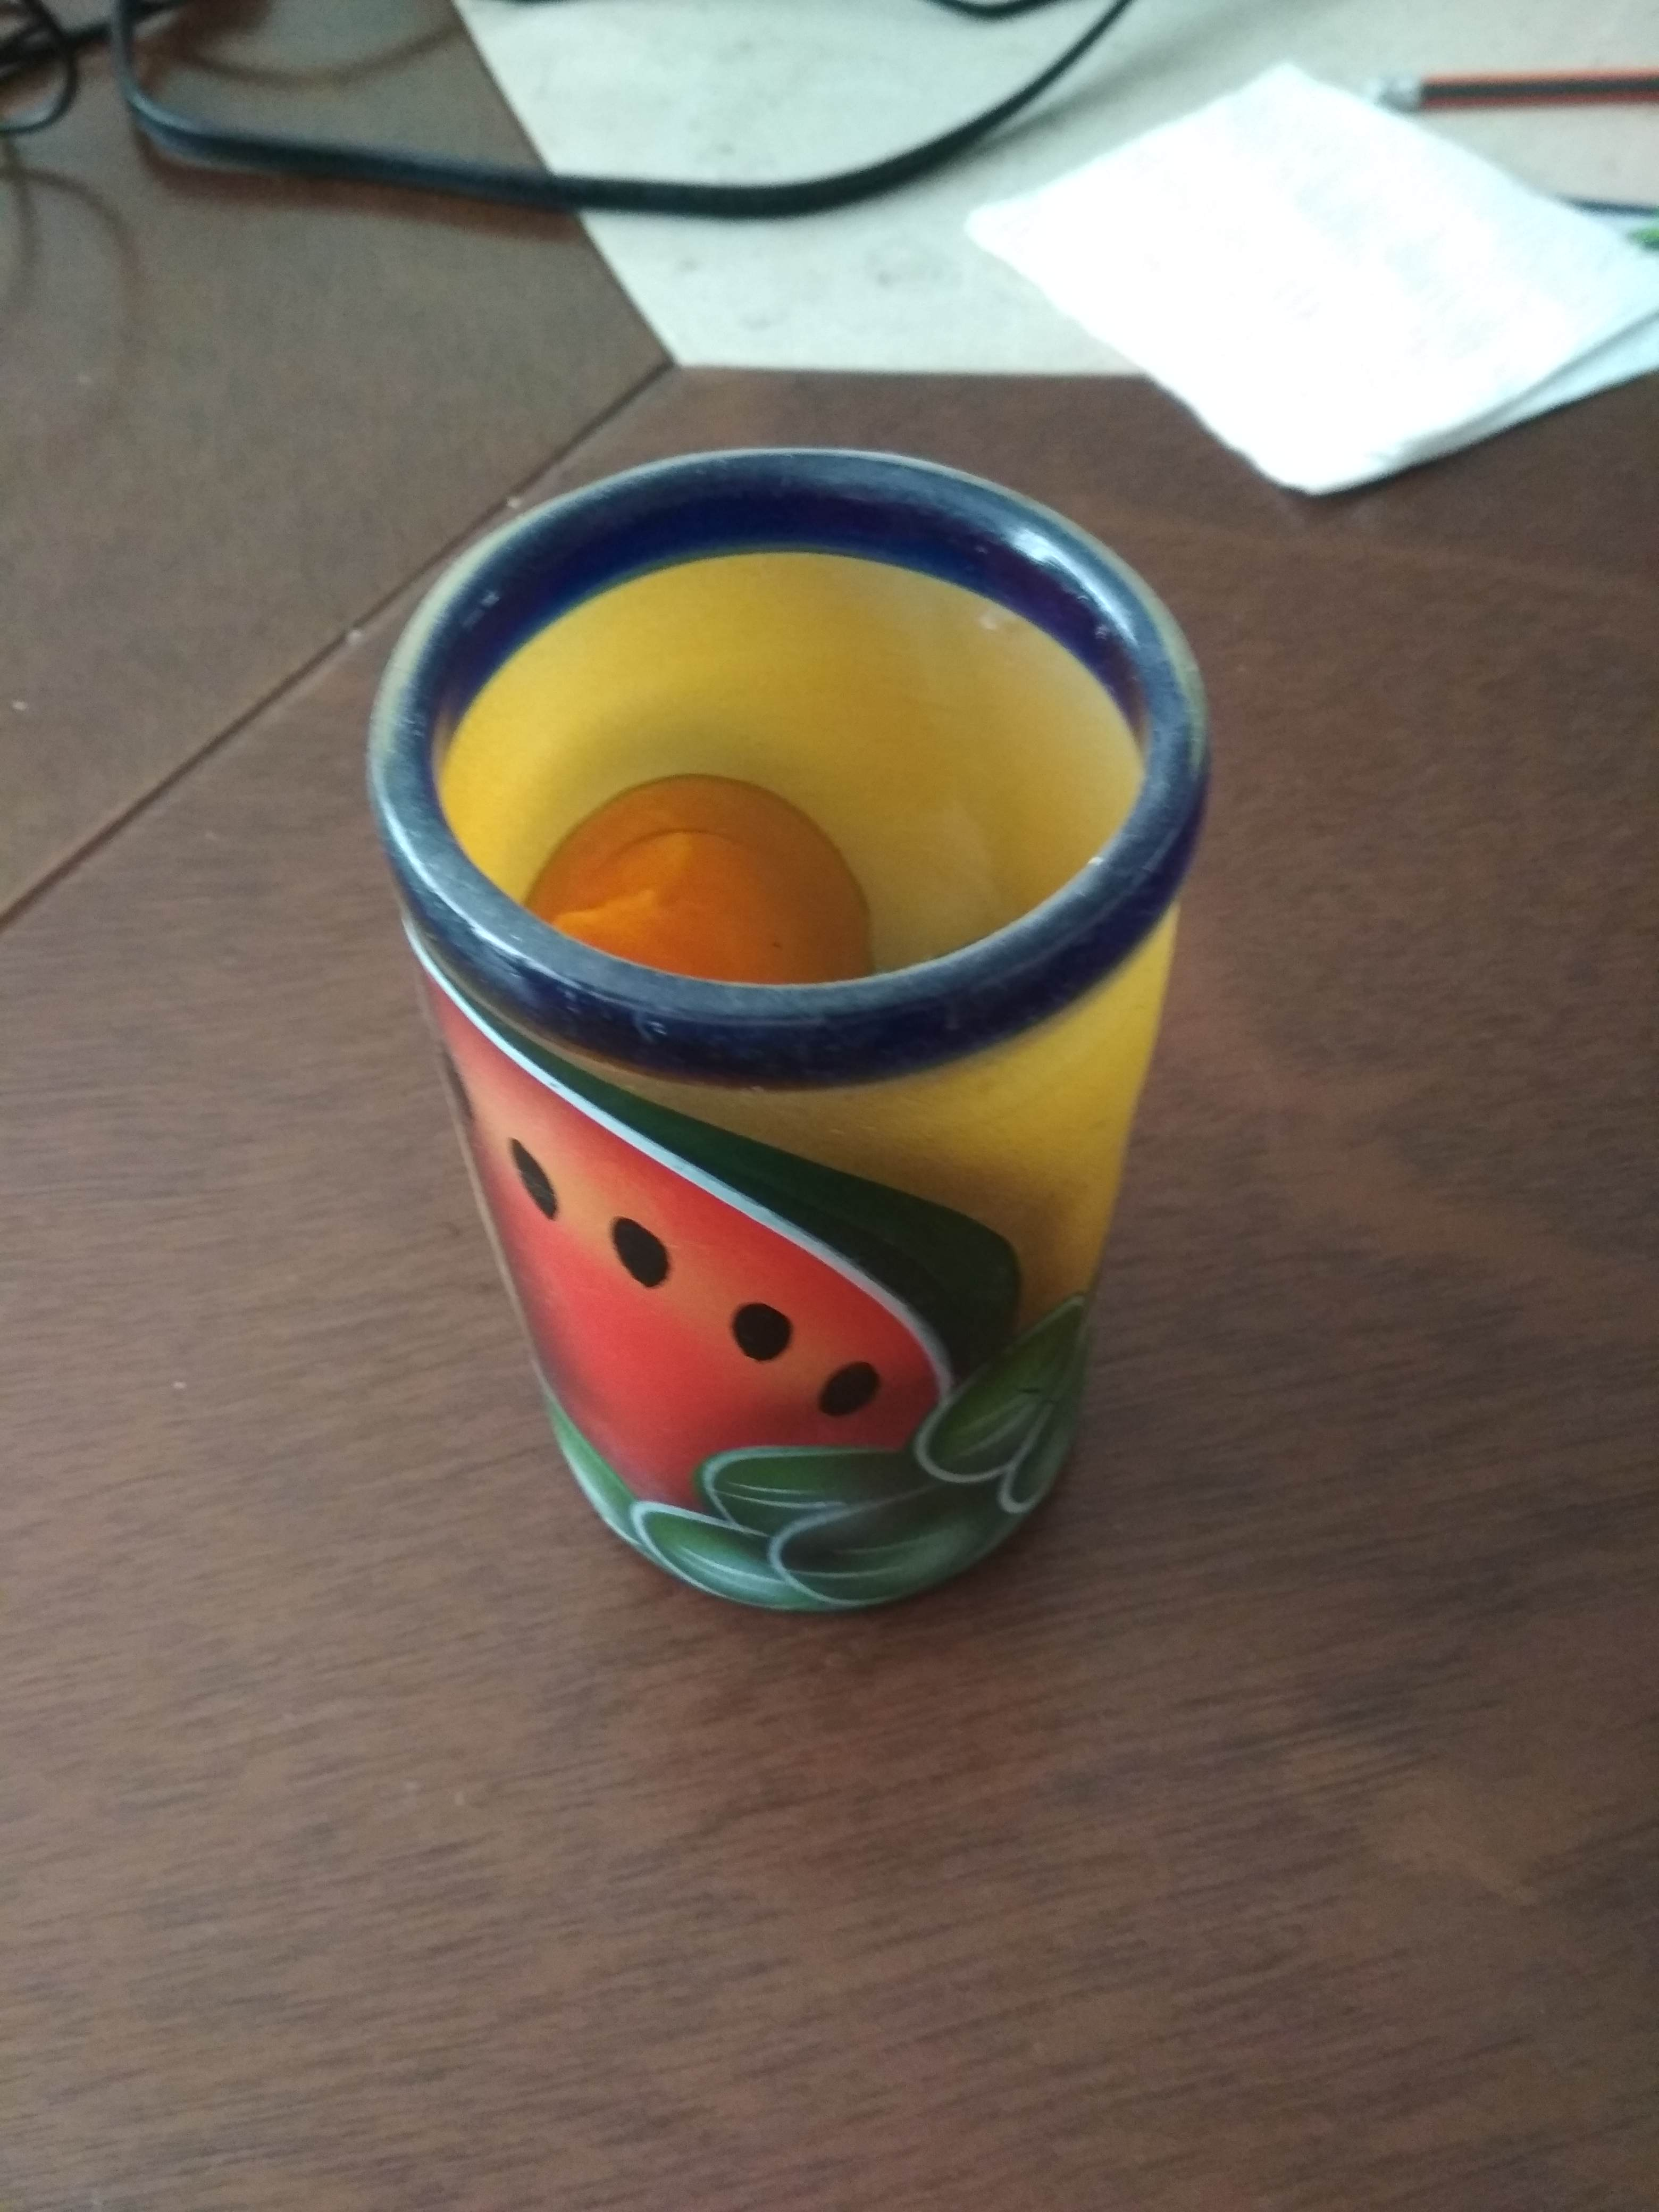glass: (347, 408, 1251, 1660)
